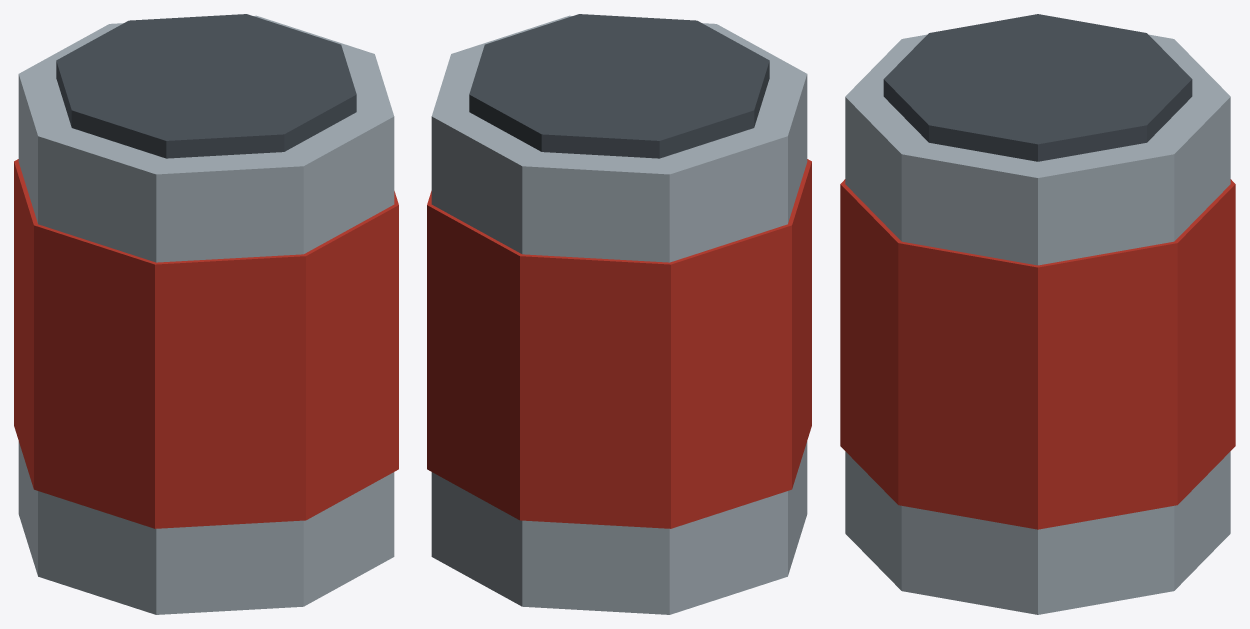
The model's file is FD_Can_Soup_01.glb.
3 views of the same model, side by side, from view 1: azimuth 30°, elevation 25°; view 2: azimuth 150°, elevation 25°; view 3: azimuth 270°, elevation 25° (orthographic).
Visible parts, largest first — view 1: FD_Can_Soup_01; view 2: FD_Can_Soup_01; view 3: FD_Can_Soup_01.
Part boxes in pixels (<box>): FD_Can_Soup_01: <box>14,14,398,614</box>; FD_Can_Soup_01: <box>427,14,811,614</box>; FD_Can_Soup_01: <box>840,14,1235,614</box>.
Bounding box in the file's own units: 0.082 × 0.104 × 0.082.
1 material, 1 textured.
